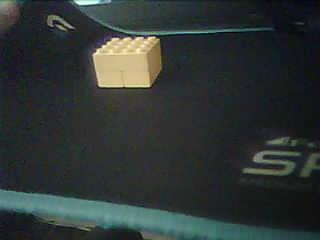lego: (91, 36, 163, 87)
